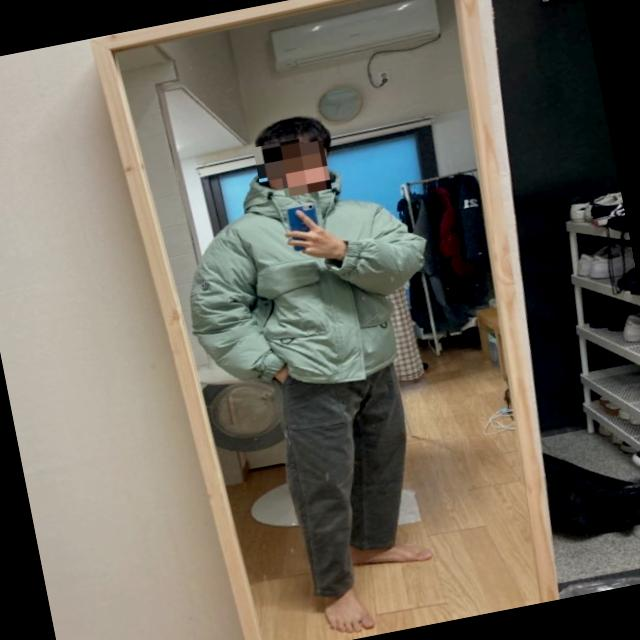denimpants: (271, 356, 439, 604)
padding: (168, 140, 452, 408)
